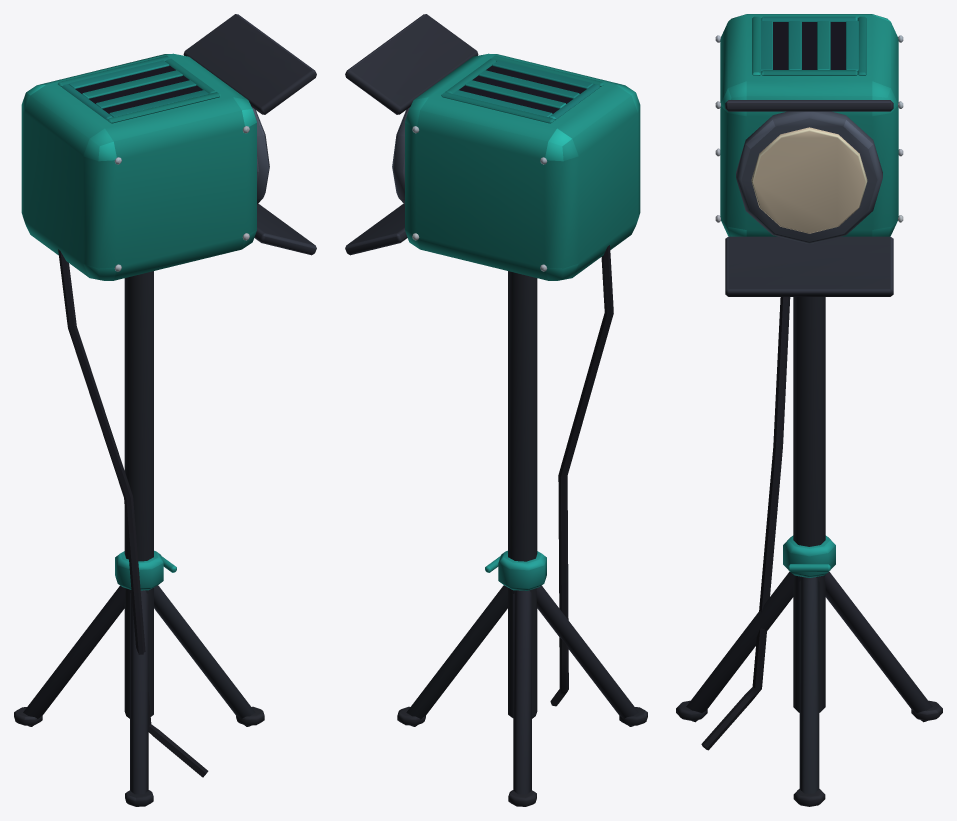
File: SM_Prop_SpareLight_Teal.fbx
The picture shows the model from 3 angles, left to right: view 1: azimuth 30°, elevation 25°; view 2: azimuth 150°, elevation 25°; view 3: azimuth 270°, elevation 25°; orthographic projection. The views are drawn at different scales.
Parts seen in each view (by area): view 1: SM_Prop_SpareLight_Teal; view 2: SM_Prop_SpareLight_Teal; view 3: SM_Prop_SpareLight_Teal.
Part boxes in pixels (bbox=[...]): SM_Prop_SpareLight_Teal: bbox=[14, 14, 316, 806]; SM_Prop_SpareLight_Teal: bbox=[345, 14, 647, 806]; SM_Prop_SpareLight_Teal: bbox=[676, 14, 942, 806].
Bounding box in the file's own units: 52.76 × 152 × 51.08.
